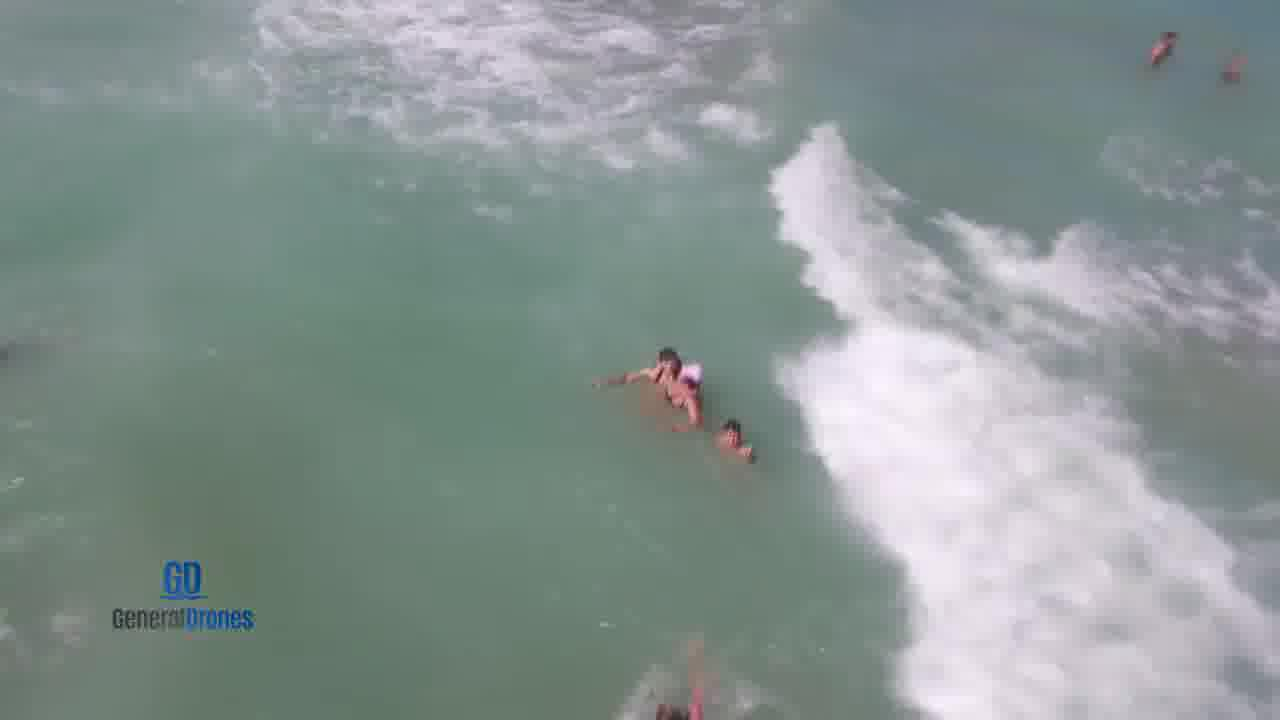human: (574, 332, 712, 444), (709, 398, 769, 475)
